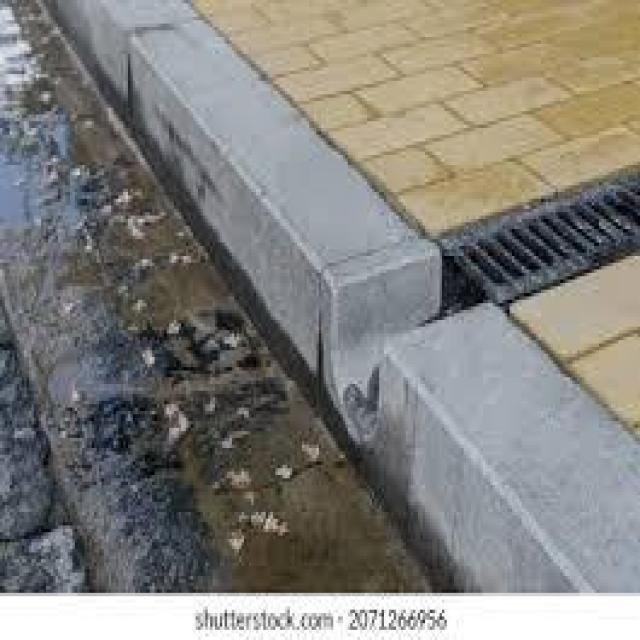curb: (224, 149, 640, 587), (38, 2, 299, 226)
